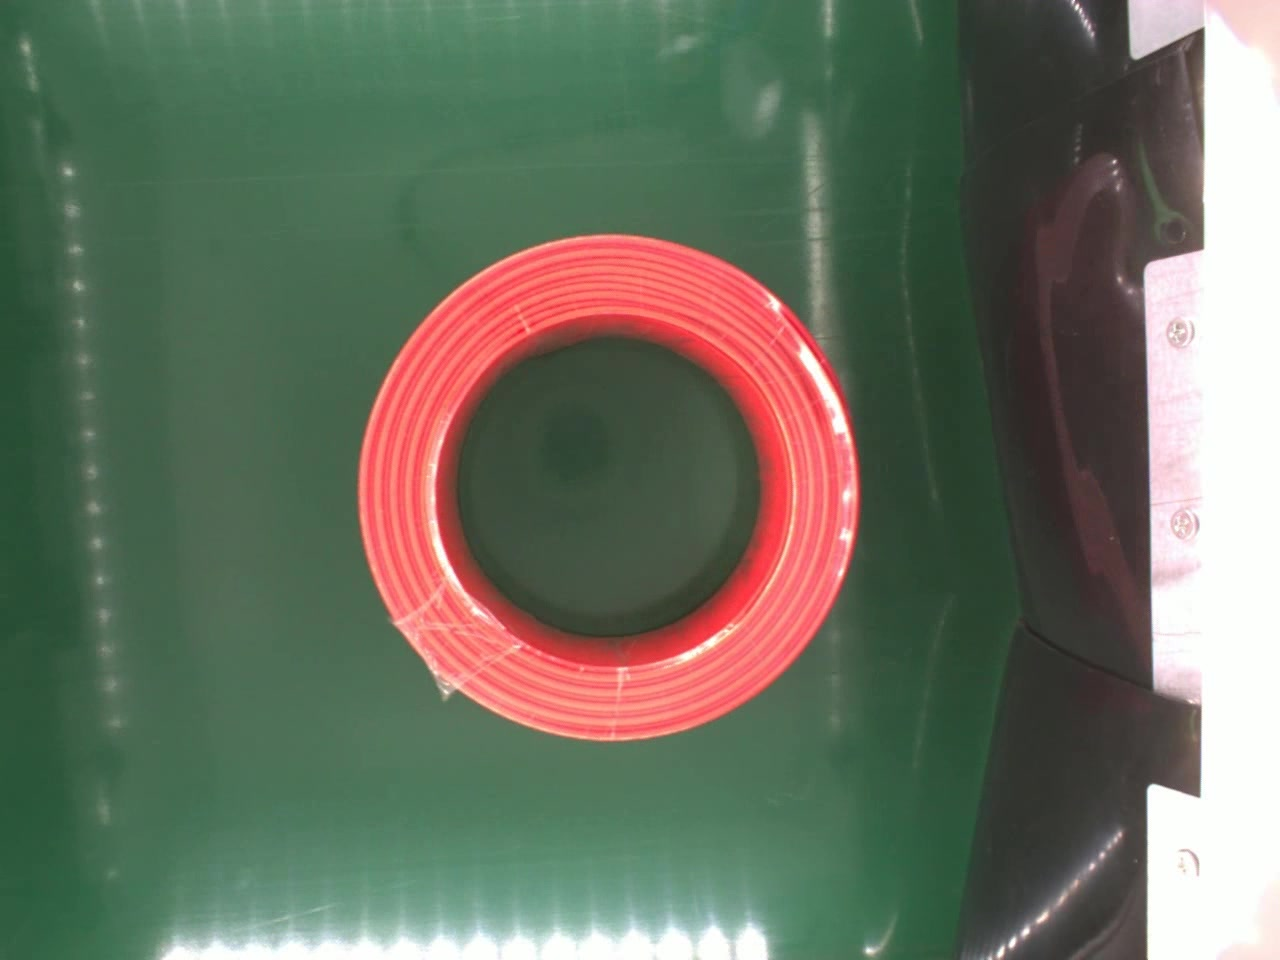red: (357, 229, 862, 748)
